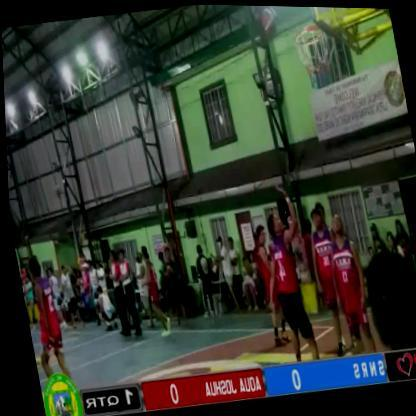basketball: (253, 4, 288, 50)
rim: (280, 5, 351, 115)
